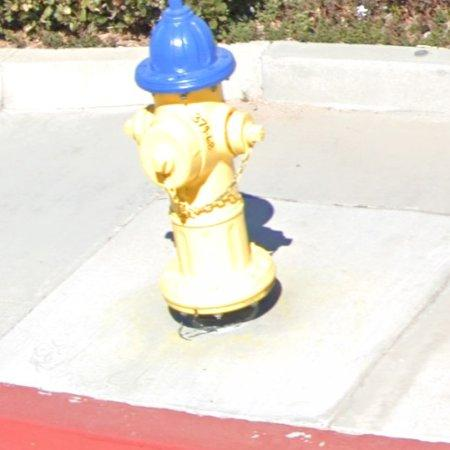a fire hydrant: (125, 0, 276, 316)
